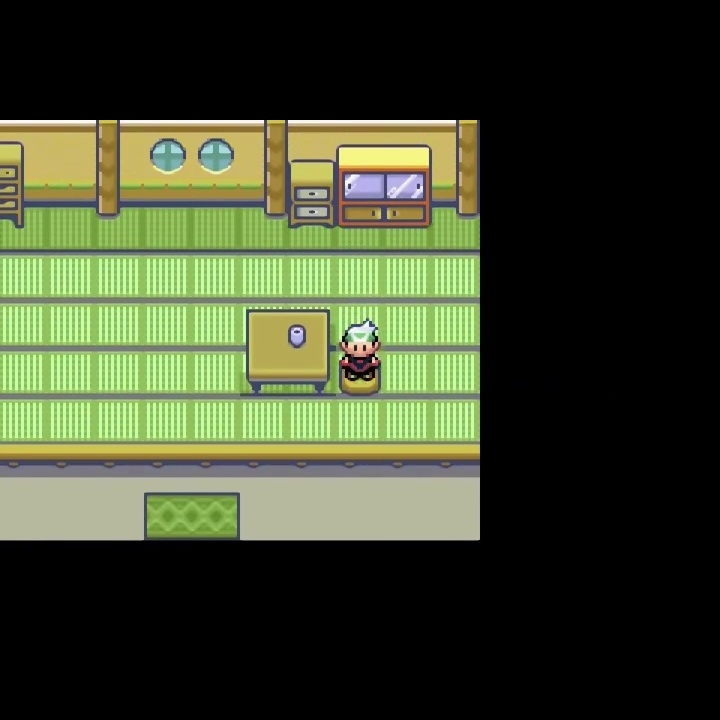agent: (336, 317, 384, 386)
